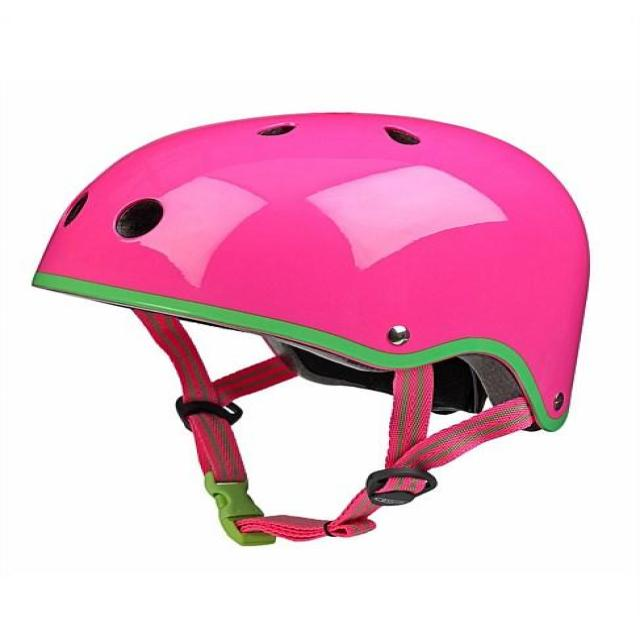Helmet: (38, 108, 591, 435)
